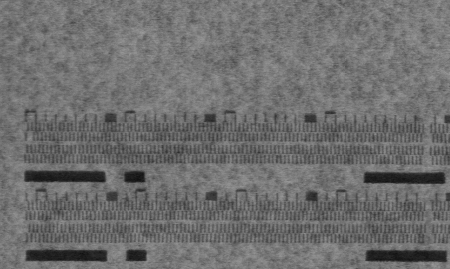Broken hole: (24, 131, 37, 143)
